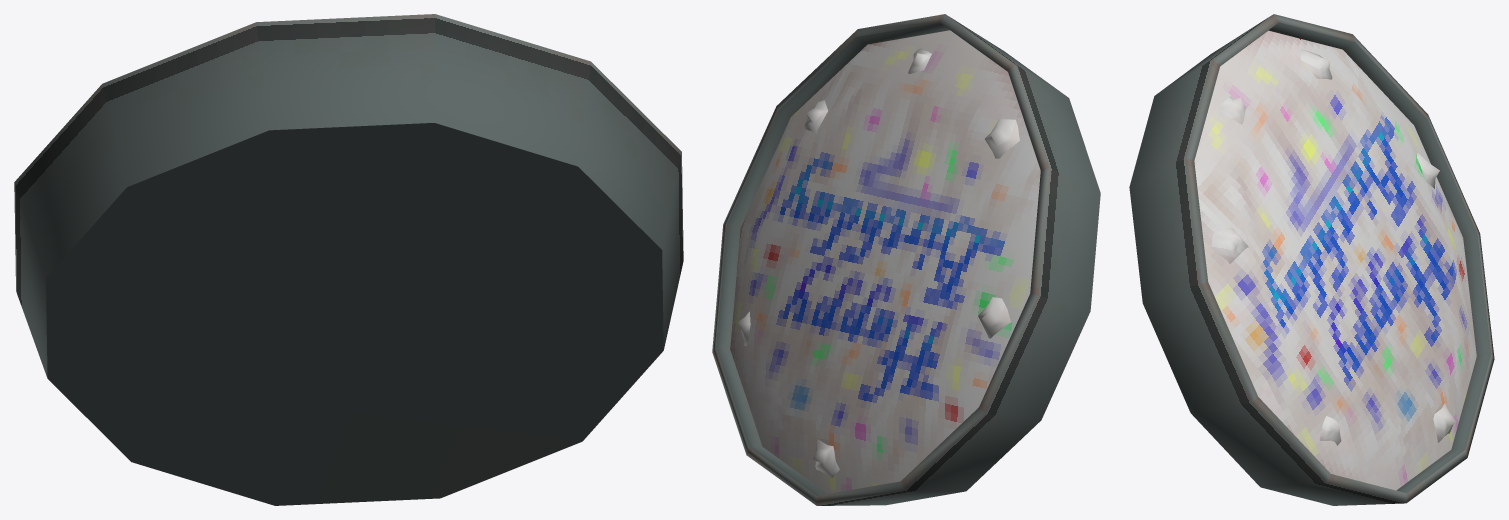
Rendered from H_CakePan_Icing.fbx.
3 renders of one model, left to right at view 1: azimuth 30°, elevation 25°; view 2: azimuth 150°, elevation 25°; view 3: azimuth 270°, elevation 25°, orthographic. The views are drawn at different scales.
Visible parts, largest first — view 1: Cake; view 2: Cake; view 3: Cake.
Boxes of the visible parts, left/top/right/bottom form: Cake: left=14, top=14, right=683, bottom=505; Cake: left=712, top=14, right=1100, bottom=505; Cake: left=1129, top=14, right=1494, bottom=505.
Bounding box in the file's own units: 49.78 × 47.72 × 37.7.
